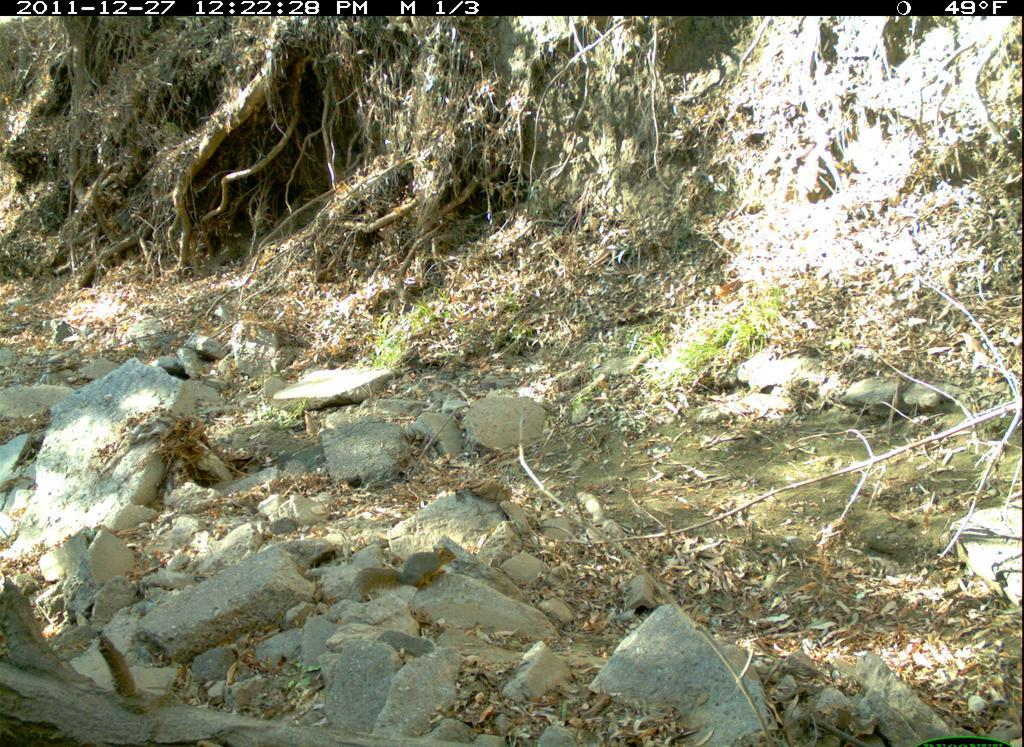squirrel: (347, 542, 460, 607)
